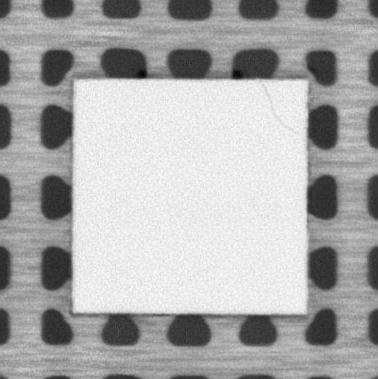DIE_CRACK: (260, 79, 298, 137)
